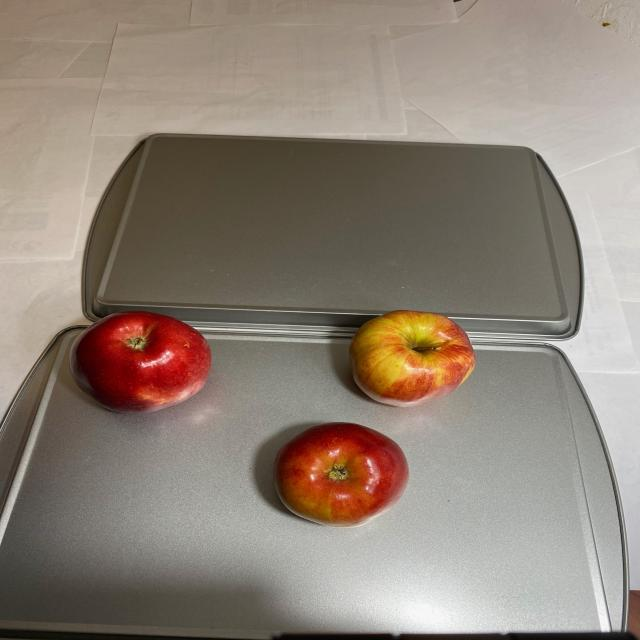apple: (269, 309, 479, 528), (66, 312, 218, 415)
